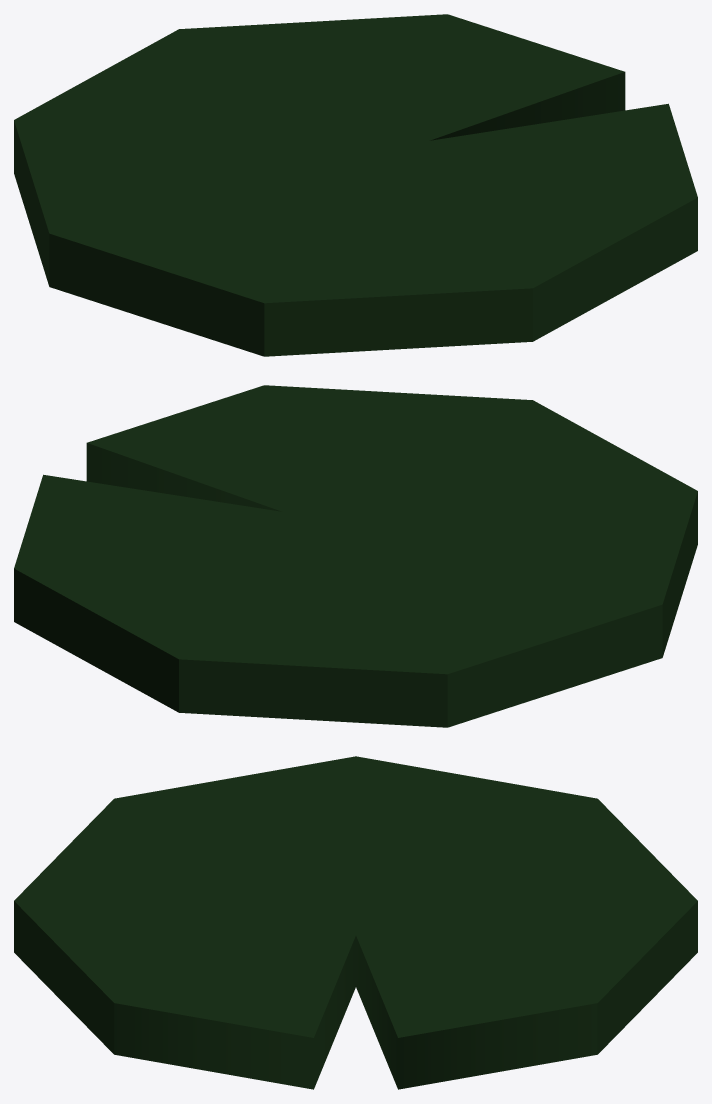
File: Dandelion_Nenuphar_Normal.FBX
3 views of the same model, one above another, from view 1: azimuth 30°, elevation 25°; view 2: azimuth 150°, elevation 25°; view 3: azimuth 270°, elevation 25° (orthographic). The views are drawn at different scales.
Visible parts, largest first — view 1: Cylinder040; view 2: Cylinder040; view 3: Cylinder040.
Boxes of the visible parts, x1,y1,x2,y2 form: Cylinder040: (14, 14, 697, 356); Cylinder040: (14, 385, 697, 727); Cylinder040: (14, 756, 697, 1089).
Size of the model in its own units: 292 by 25 by 300.
